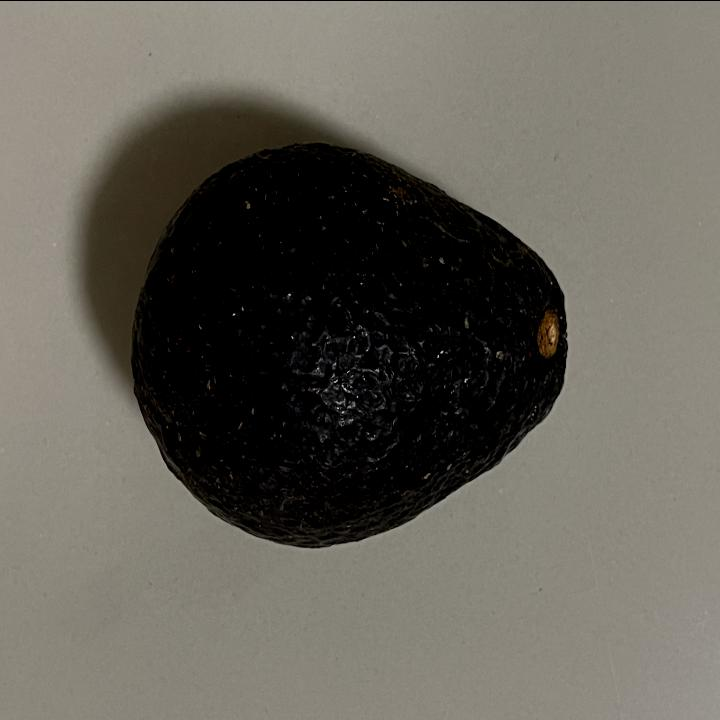Level2: (126, 134, 580, 556)
